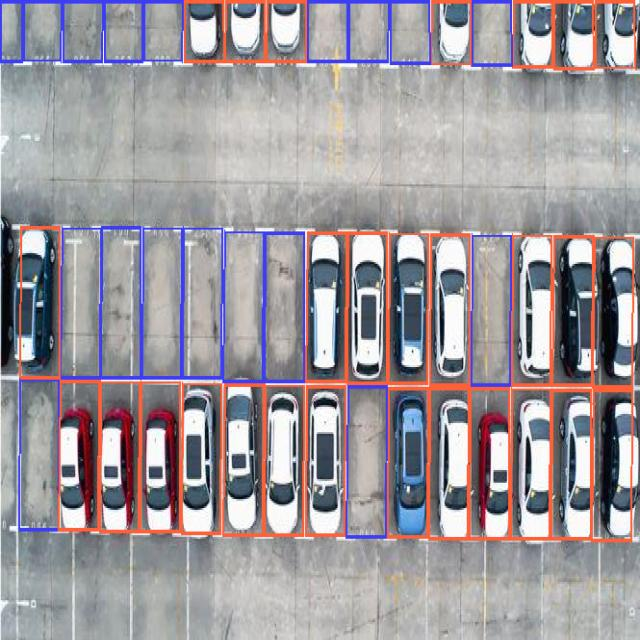space-empty: (260, 232, 307, 384), (470, 231, 516, 385), (342, 382, 389, 532), (102, 221, 144, 376), (72, 534, 131, 638), (60, 228, 102, 374), (129, 535, 188, 638), (180, 237, 223, 378), (19, 526, 73, 634), (426, 541, 485, 638), (485, 541, 542, 638), (22, 373, 58, 525), (542, 542, 598, 638), (598, 542, 639, 638), (386, 2, 432, 65), (60, 0, 104, 63), (471, 4, 512, 68), (144, 0, 184, 64), (102, 0, 144, 60), (310, 0, 351, 60), (26, 0, 62, 62), (352, 5, 389, 64), (2, 2, 23, 54)
space-occupied: (8, 226, 58, 374), (134, 382, 182, 532), (511, 231, 557, 385), (428, 231, 473, 385), (386, 385, 432, 535), (91, 382, 137, 532), (387, 231, 431, 385), (261, 382, 305, 534), (303, 232, 347, 384), (554, 385, 598, 537), (302, 382, 346, 532), (554, 233, 598, 383), (431, 387, 475, 535), (345, 232, 387, 384), (513, 387, 556, 535), (598, 233, 639, 383), (473, 387, 514, 535), (224, 381, 264, 531), (597, 388, 635, 540), (56, 383, 95, 530), (182, 382, 221, 528), (228, 231, 266, 379), (145, 230, 181, 380), (512, 4, 558, 70), (594, 3, 638, 72), (177, 4, 226, 62), (428, 2, 473, 65), (222, 2, 268, 63), (268, 0, 310, 60), (559, 2, 595, 68)
